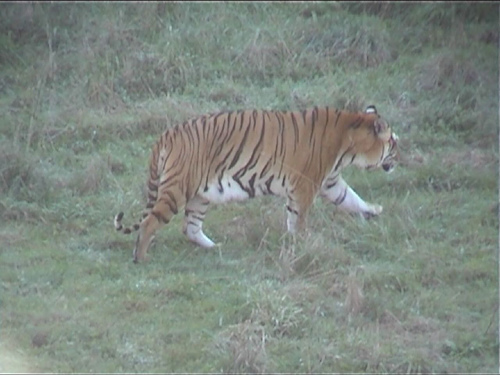Tigre: (134, 99, 412, 249)
